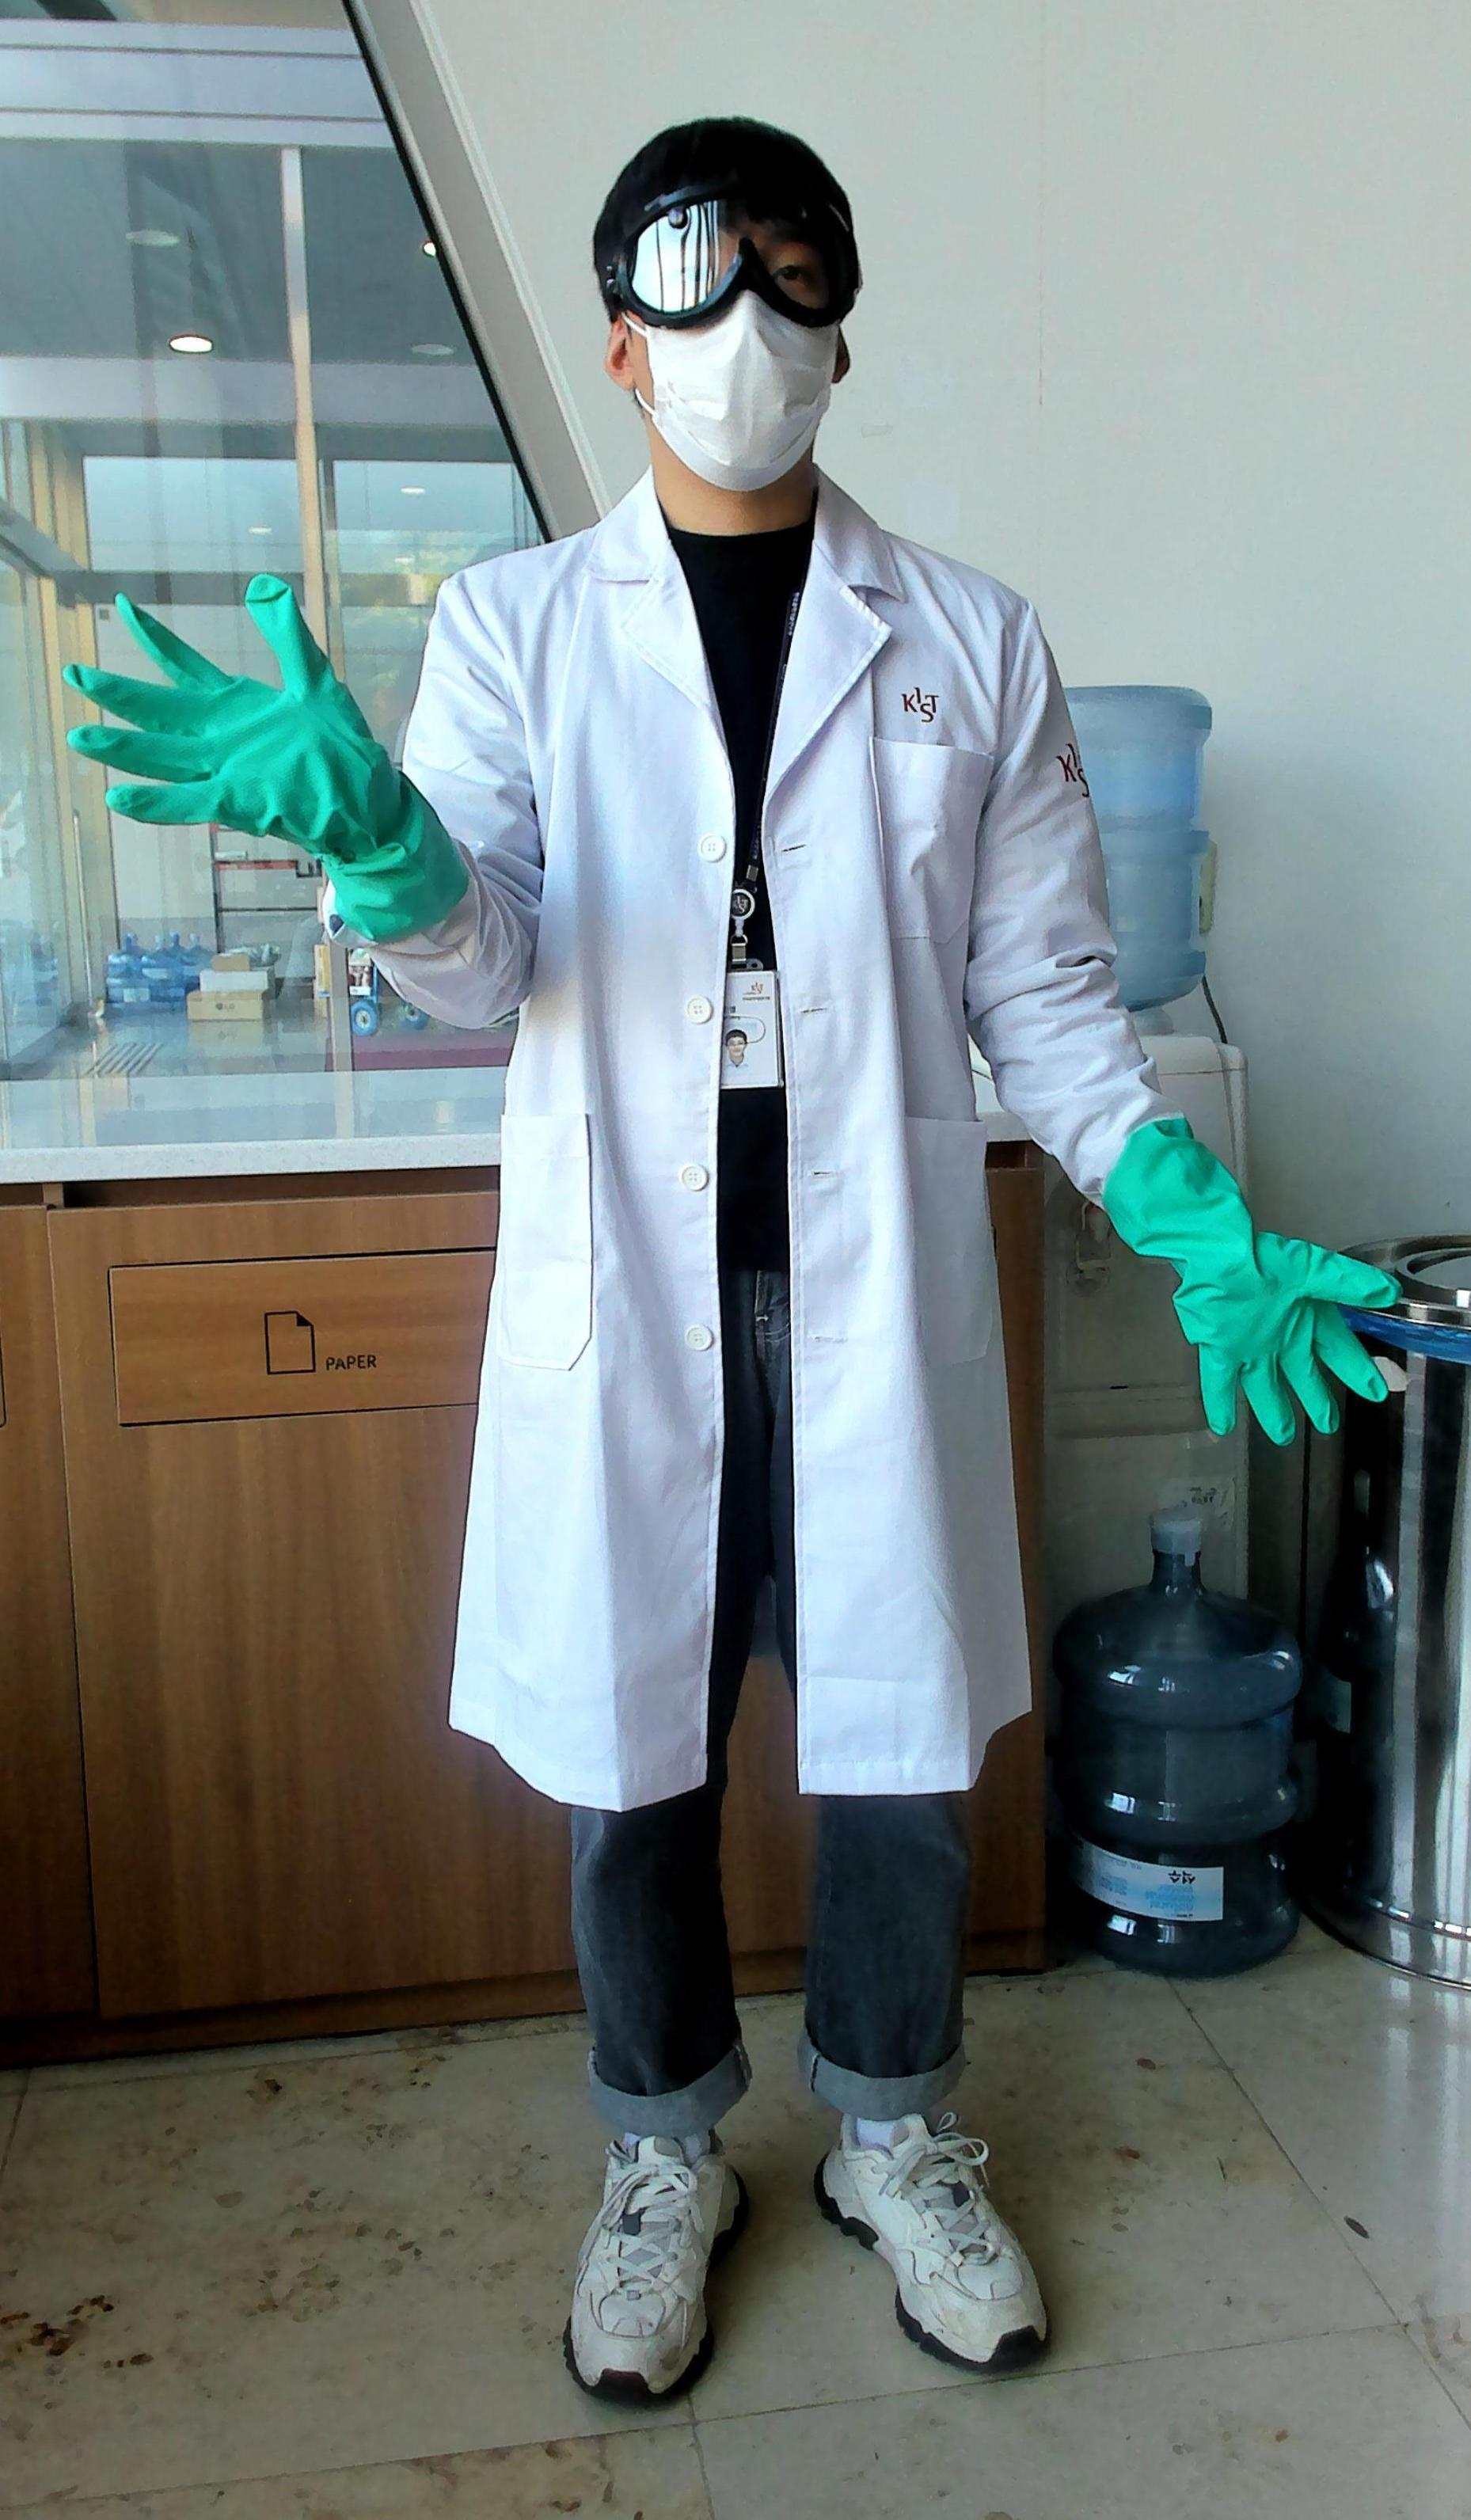lab_coat: (478, 611, 1042, 1783)
